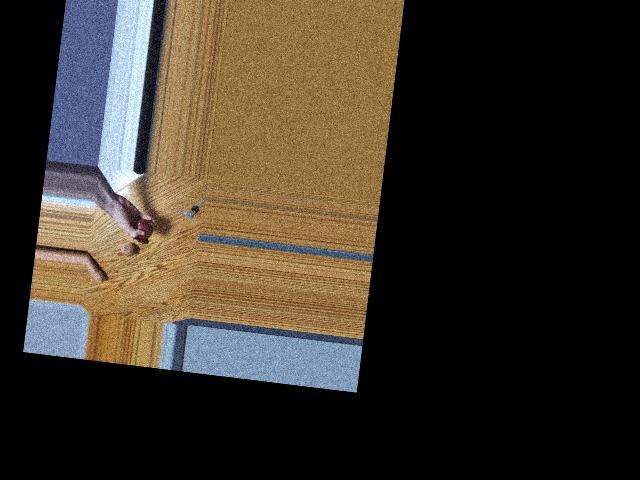onion: (116, 235, 137, 258)
